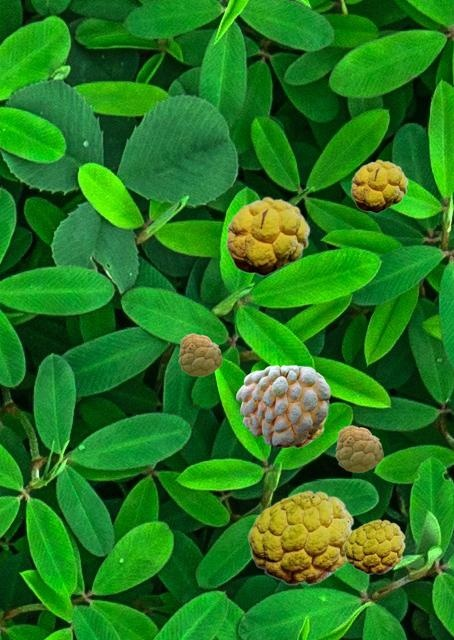atis: (247, 490, 353, 584), (236, 365, 329, 446), (225, 196, 309, 275), (343, 519, 404, 573), (350, 159, 407, 212), (335, 425, 382, 471), (178, 333, 221, 375), (262, 419, 326, 447)
